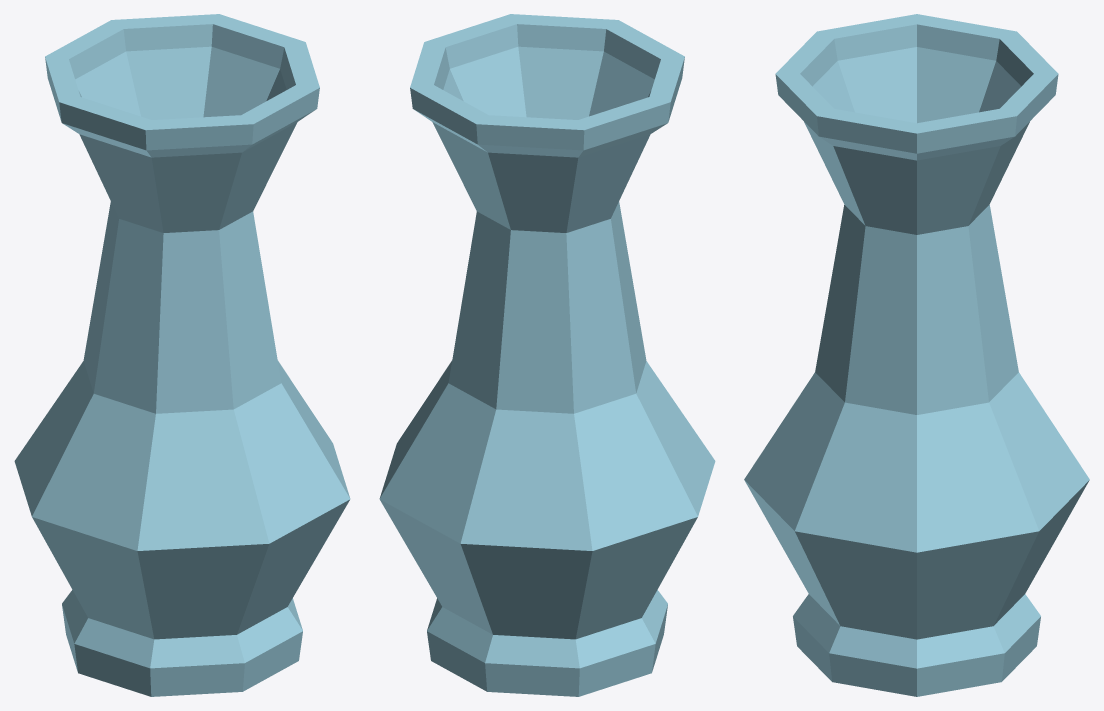
File: Vase2.glb
3 views of the same model, side by side, from view 1: azimuth 30°, elevation 25°; view 2: azimuth 150°, elevation 25°; view 3: azimuth 270°, elevation 25° (orthographic).
Visible parts, largest first — view 1: Vase2; view 2: Vase2; view 3: Vase2.
Boxes of the visible parts, x1,y1,x2,y2 form: Vase2: (14, 14, 350, 696); Vase2: (379, 14, 715, 696); Vase2: (744, 14, 1089, 696).
Bounding box in the file's own units: 0.1676 × 0.306 × 0.1676.
